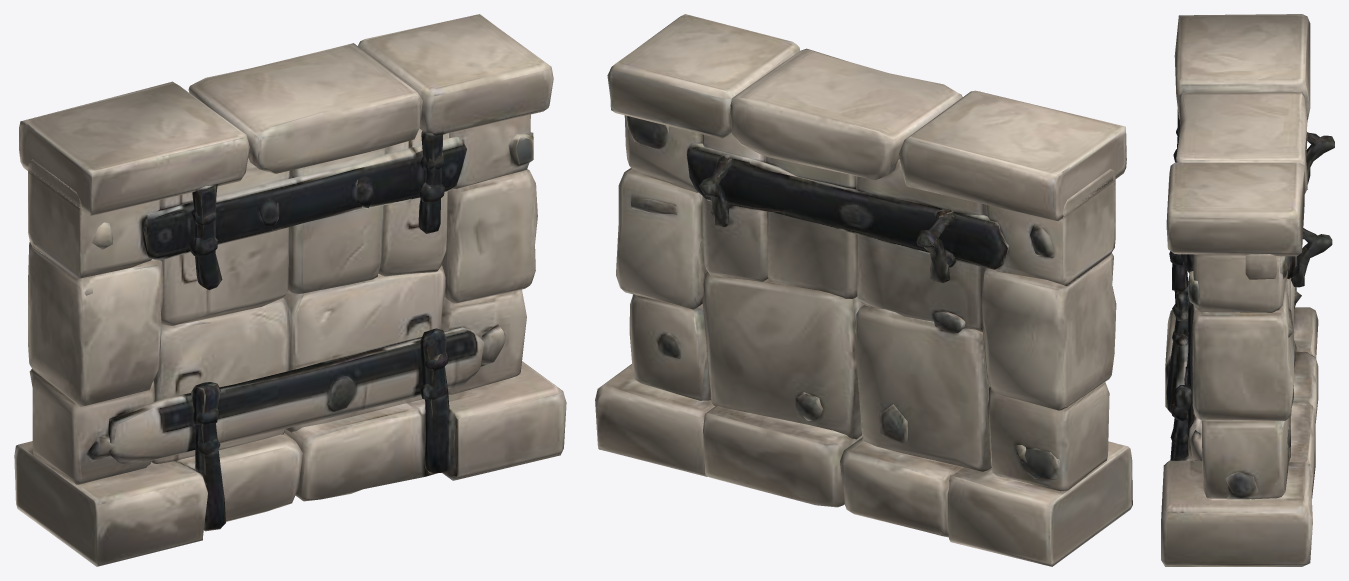
File: pv_muro_pedra.glb
3 renders of one model, left to right at view 1: azimuth 30°, elevation 25°; view 2: azimuth 150°, elevation 25°; view 3: azimuth 270°, elevation 25°, orthographic. The views are drawn at different scales.
Visible parts, largest first — view 1: Mesh_0; view 2: Mesh_0; view 3: Mesh_0.
Boxes of the visible parts, box(x1,y1,x2,y2) form: Mesh_0: box(14, 14, 566, 566); Mesh_0: box(595, 14, 1132, 566); Mesh_0: box(1161, 14, 1334, 566).
Bounding box in the file's own units: 0.3457 × 0.2783 × 0.124.
Materials: 1 (1 with a texture image).
